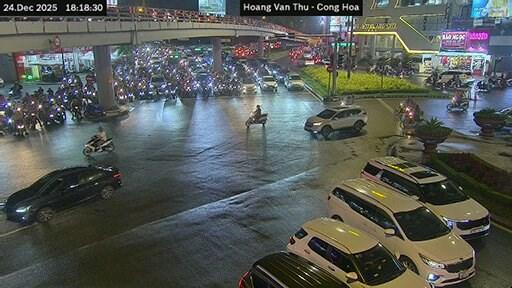motorbike: (85, 135, 114, 154), (245, 112, 266, 125), (445, 97, 467, 109), (83, 104, 105, 116), (12, 122, 25, 135), (476, 81, 492, 91), (71, 107, 82, 121)
